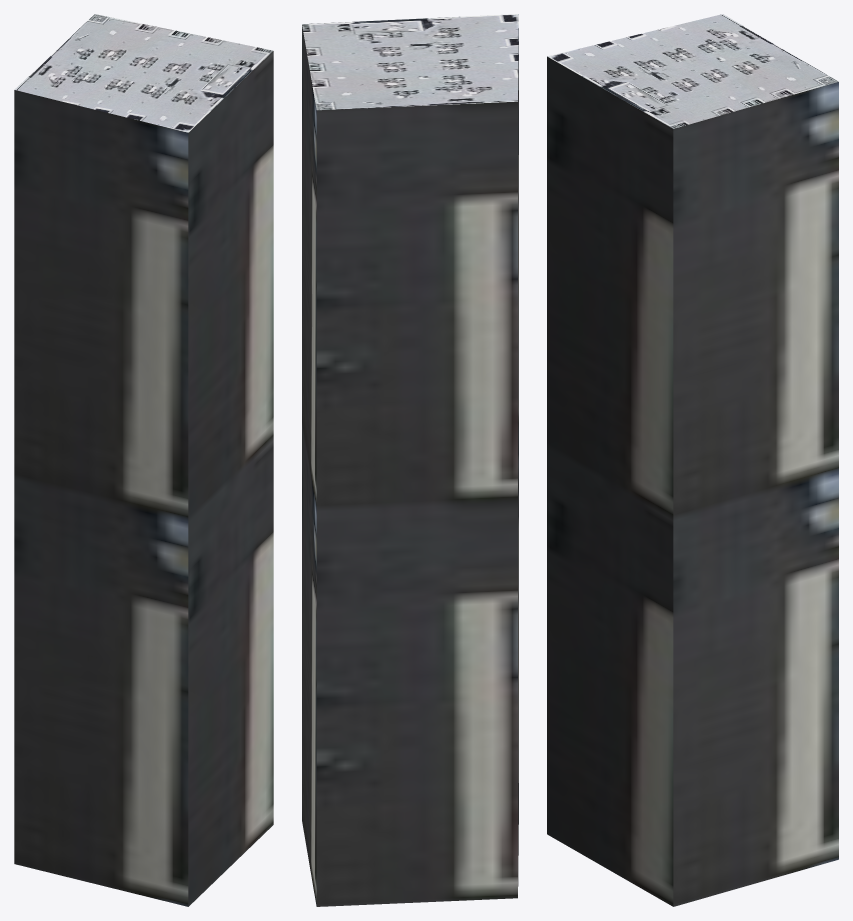
Rendered from ResTex__2719.fbx.
The picture shows the model from 3 angles, left to right: view 1: azimuth 30°, elevation 25°; view 2: azimuth 150°, elevation 25°; view 3: azimuth 270°, elevation 25°; orthographic projection. The views are drawn at different scales.
Parts seen in each view (by area): view 1: CityEngineMaterial_22_m, CityEngineMaterial_4_m; view 2: CityEngineMaterial_22_m, CityEngineMaterial_4_m; view 3: CityEngineMaterial_22_m, CityEngineMaterial_4_m.
Part boxes in pixels (box(x1,y1,x2,y2)): CityEngineMaterial_22_m: box(14, 51, 273, 906); CityEngineMaterial_4_m: box(14, 14, 273, 132); CityEngineMaterial_22_m: box(302, 25, 518, 906); CityEngineMaterial_4_m: box(302, 14, 518, 110); CityEngineMaterial_22_m: box(547, 56, 838, 906); CityEngineMaterial_4_m: box(547, 14, 838, 128).
Size of the model in its own units: 1.9 by 6 by 2.04.
Materials: 2 (2 with a texture image).
